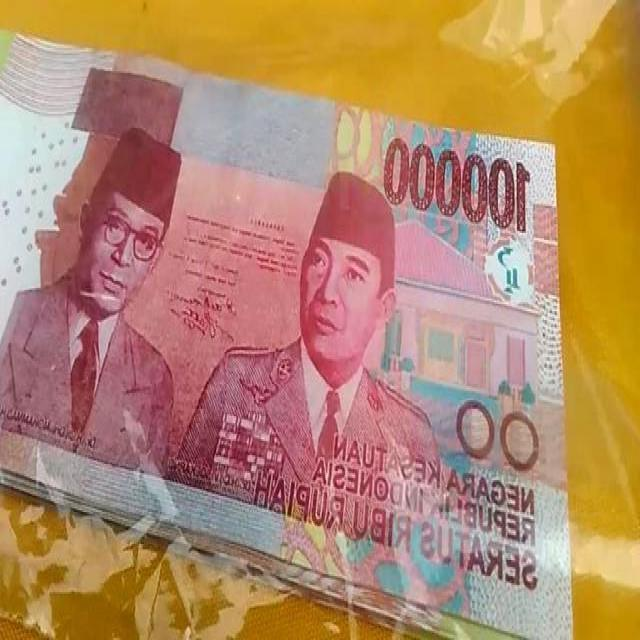seratus ribu rupiah: (0, 71, 568, 593)
